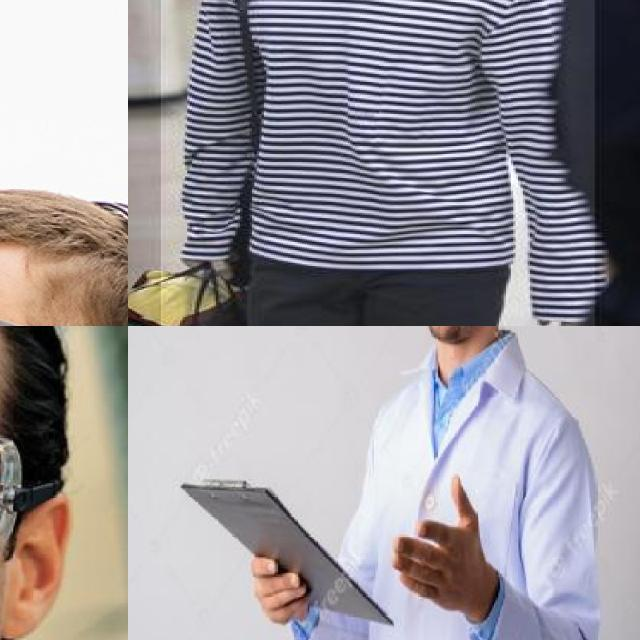Ear-protection: (7, 190, 128, 326)
No_Ear-Protection: (0, 480, 85, 639)
hand_noglove: (390, 470, 492, 620), (245, 548, 312, 632)
person: (160, 0, 597, 326), (334, 326, 597, 640)
